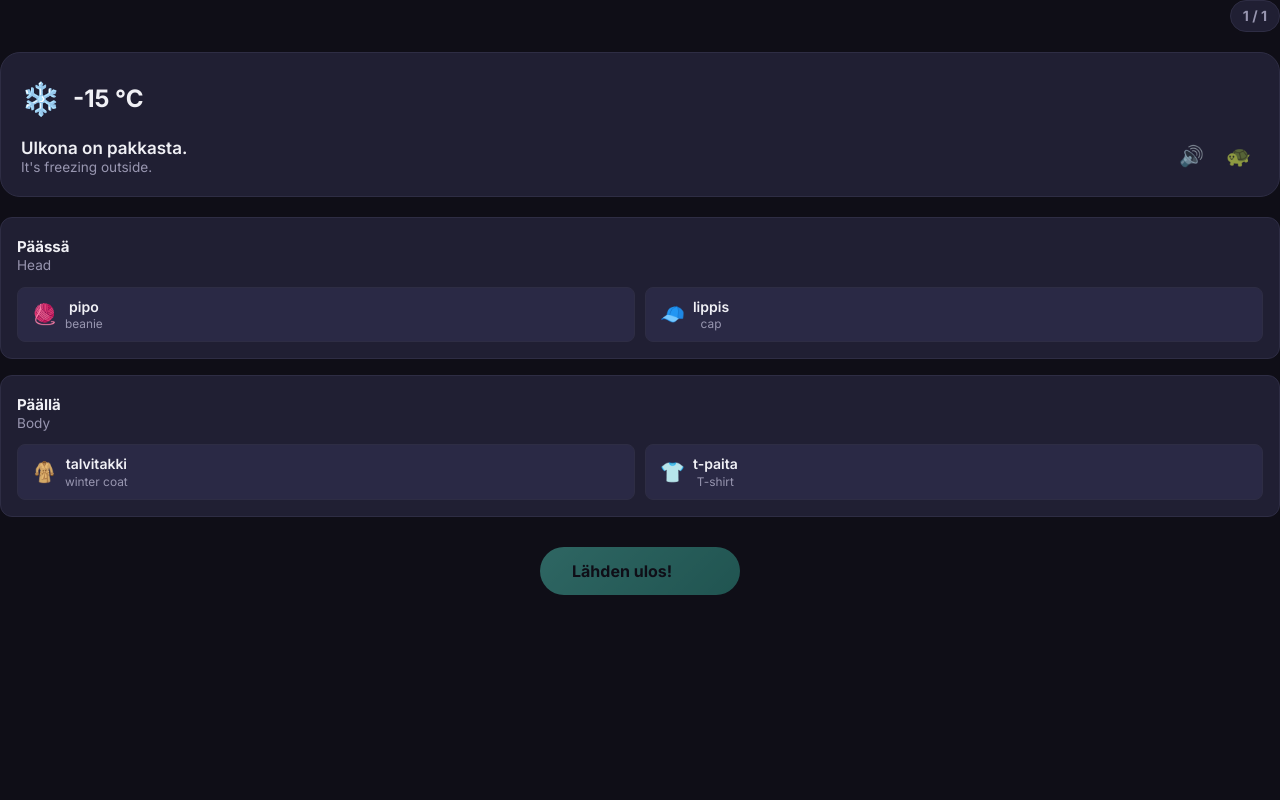
Scene UI Components › OutfitGame › requires all slots selected before check button is enabled
The image size is (1280, 800).
Expected: the button "Lähden ulos!" is disabled, x1=540 y1=547 x2=740 y2=595
# Click pipo
What coordinates should you click on to do the following:
click the button "🧶 pipo beanie"
I would click on:
 (84, 323)
Its box is x1=17 y1=286 x2=635 y2=342.
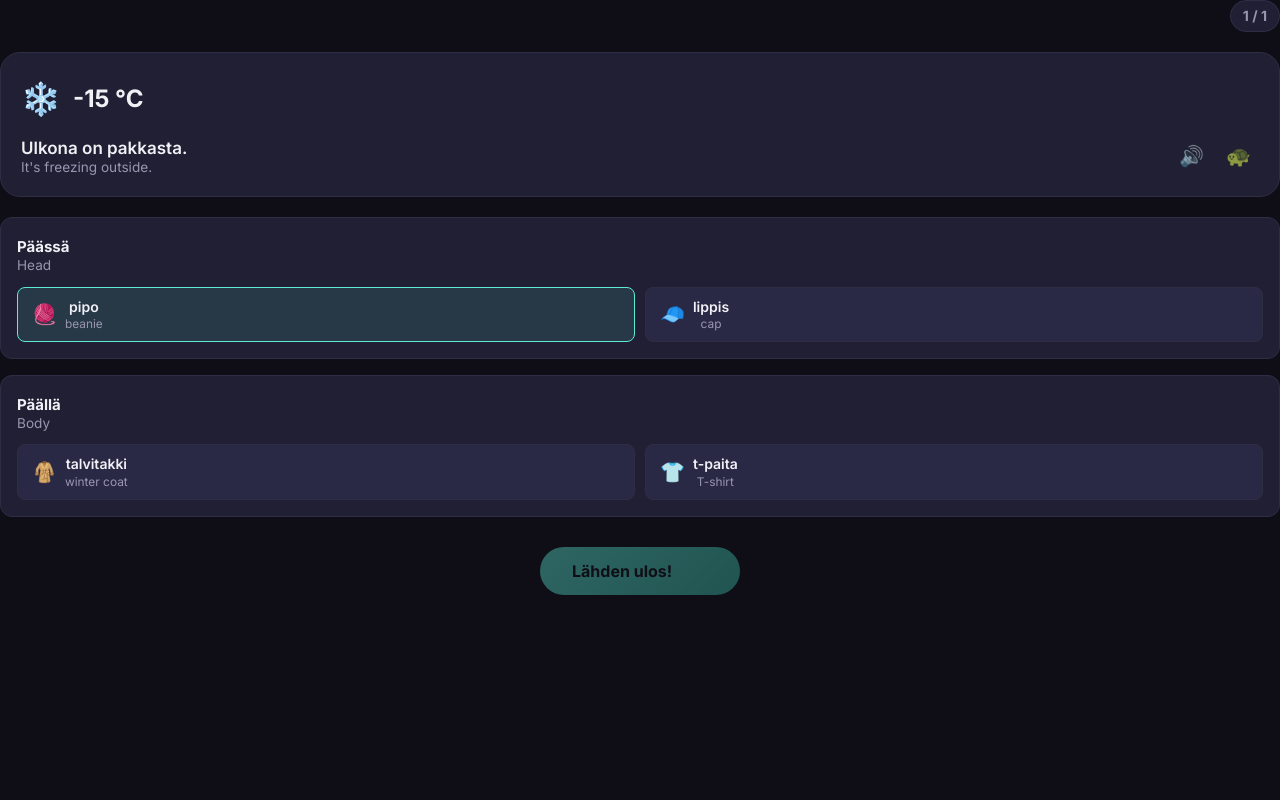
Expected: the button "Lähden ulos!" is disabled, x1=540 y1=547 x2=740 y2=595
# Click talvitakki
What coordinates should you click on to do the following:
click the button "🧥 talvitakki winter coat"
I would click on:
 (96, 464)
Its box is x1=17 y1=444 x2=635 y2=500.
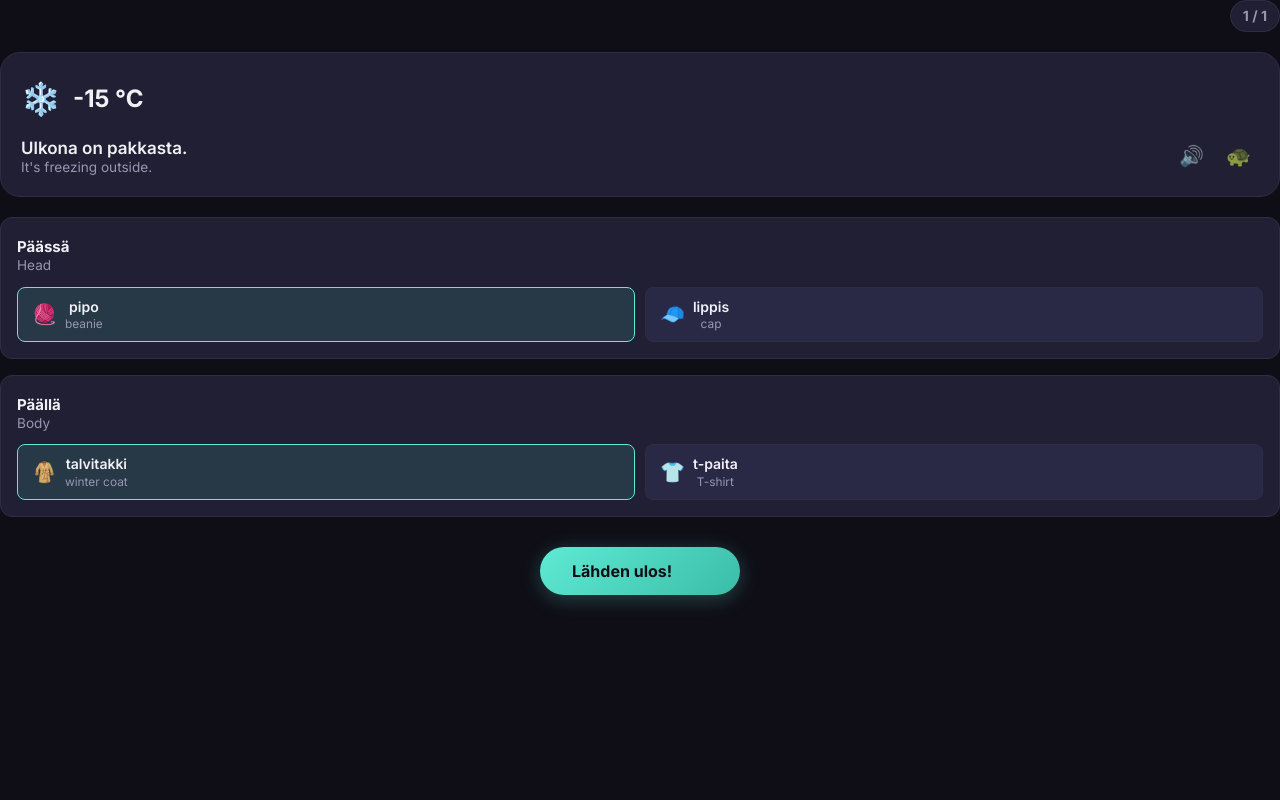
Expected: the button "Lähden ulos!" is enabled, x1=540 y1=547 x2=740 y2=595
